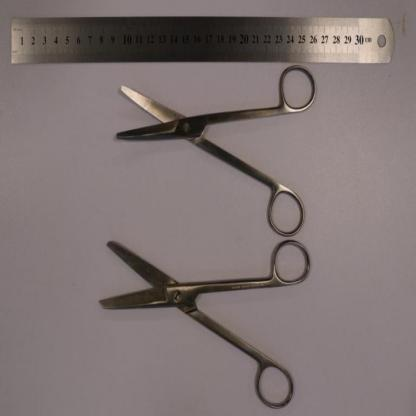Curved Mayo Scissors: (115, 62, 317, 240)
Dressing Scissors: (99, 238, 312, 411)
